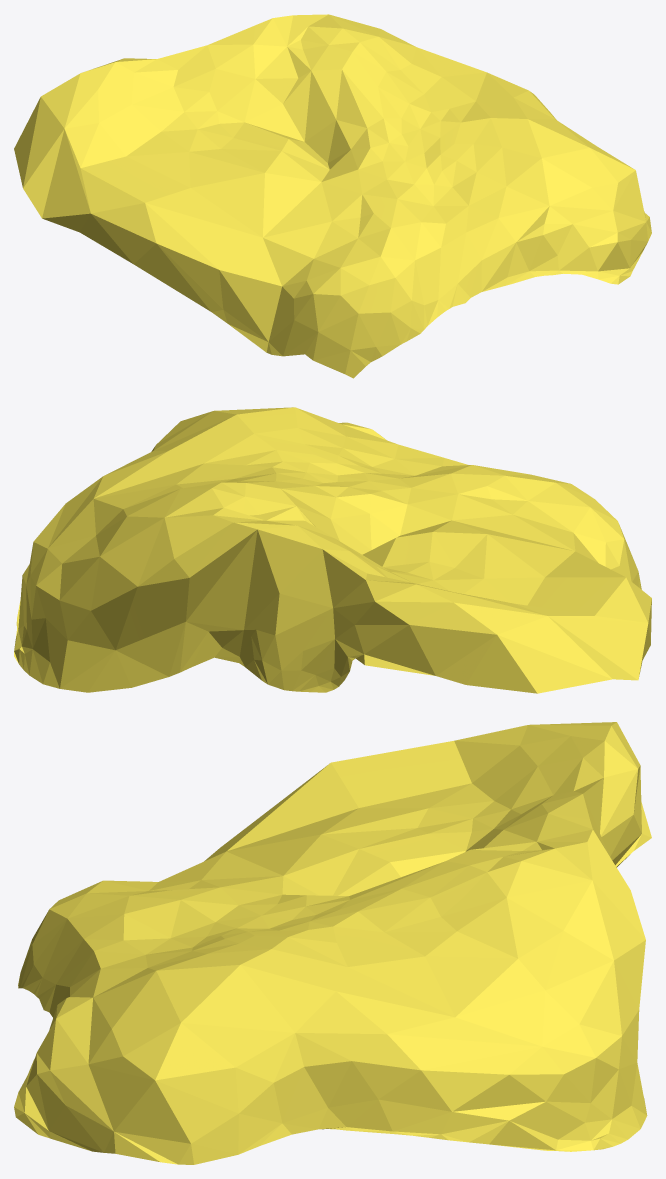
The model's file is ground_021.fbx.
3 renders of one model, top to bottom at view 1: azimuth 30°, elevation 25°; view 2: azimuth 150°, elevation 25°; view 3: azimuth 270°, elevation 25°, orthographic. The views are drawn at different scales.
Parts seen in each view (by area): view 1: ground.021; view 2: ground.021; view 3: ground.021.
Boxes of the visible parts, box(x1,y1,x2,y2) form: ground.021: box(14, 14, 651, 378); ground.021: box(14, 407, 651, 693); ground.021: box(14, 722, 651, 1164).
Size of the model in its own units: 2305 by 803 by 1858.
Materials: 1 (1 with a texture image).
